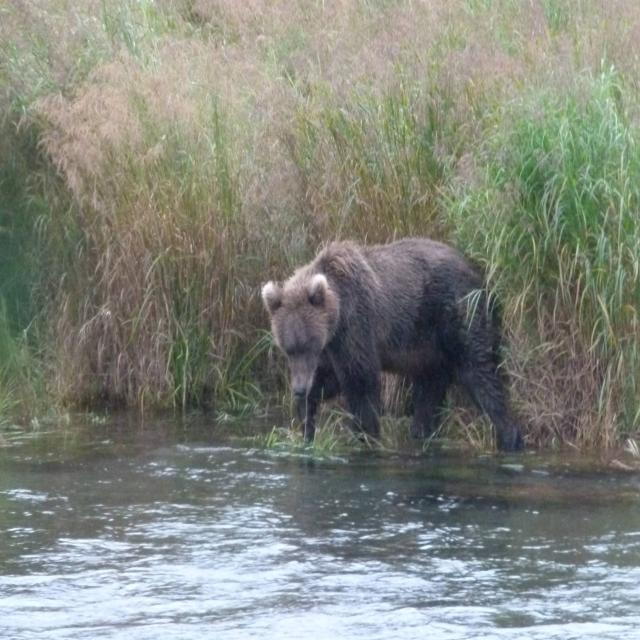bear face: (261, 238, 505, 427)
